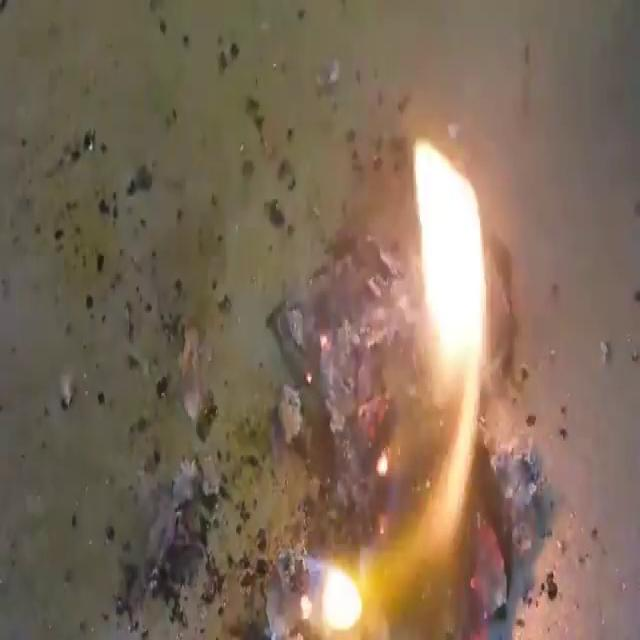Fire: (248, 73, 545, 640)
